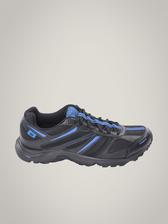shoes: (14, 105, 153, 170)
